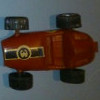rojo_oeste: (2, 14, 98, 86)
